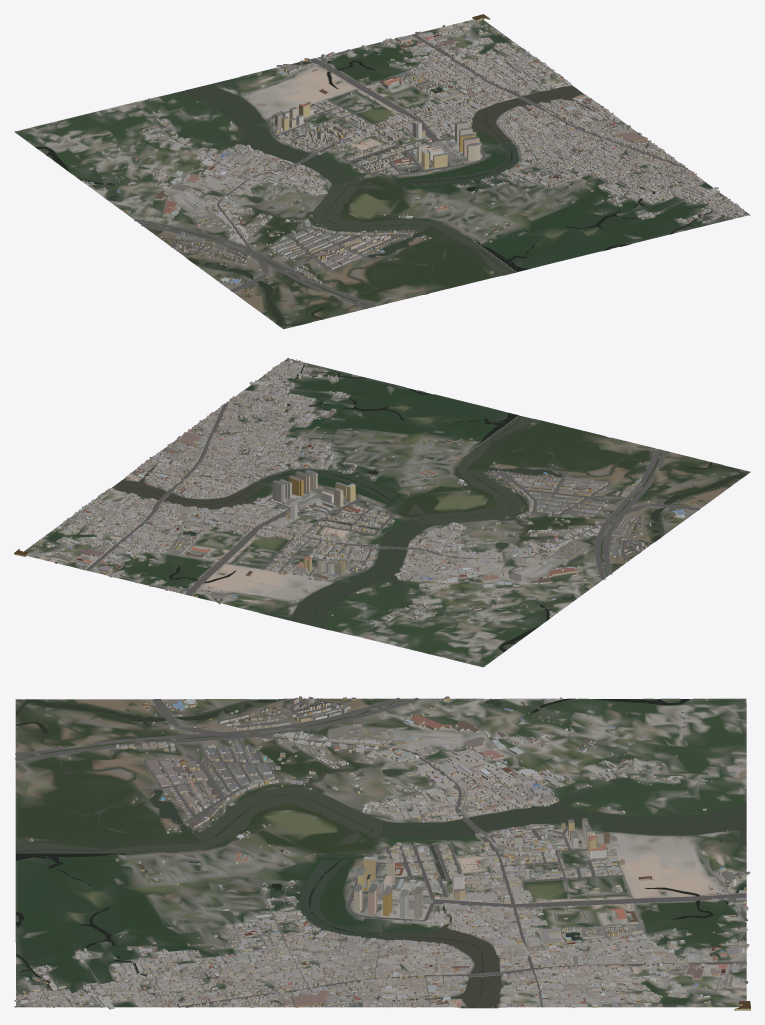
The picture shows the model from 3 angles, top to bottom: view 1: azimuth 30°, elevation 25°; view 2: azimuth 150°, elevation 25°; view 3: azimuth 270°, elevation 25°; orthographic projection. The views are drawn at different scales.
Parts seen in each view (by area): view 1: ground, buildings, water, roads; view 2: ground, buildings, water, roads; view 3: ground, buildings, water, roads.
Boxes of the visible parts, bbox=[...] form: ground: bbox=[14, 19, 748, 329]; buildings: bbox=[59, 14, 745, 299]; water: bbox=[35, 60, 731, 326]; roads: bbox=[125, 24, 750, 308]; ground: bbox=[23, 359, 750, 667]; buildings: bbox=[14, 359, 696, 645]; water: bbox=[112, 362, 746, 653]; roads: bbox=[42, 358, 700, 637]; ground: bbox=[15, 698, 746, 1008]; buildings: bbox=[14, 696, 750, 1010]; water: bbox=[16, 698, 746, 1007]; roads: bbox=[14, 697, 747, 1007].
Size of the model in its own units: 2840 by 110 by 2825.
